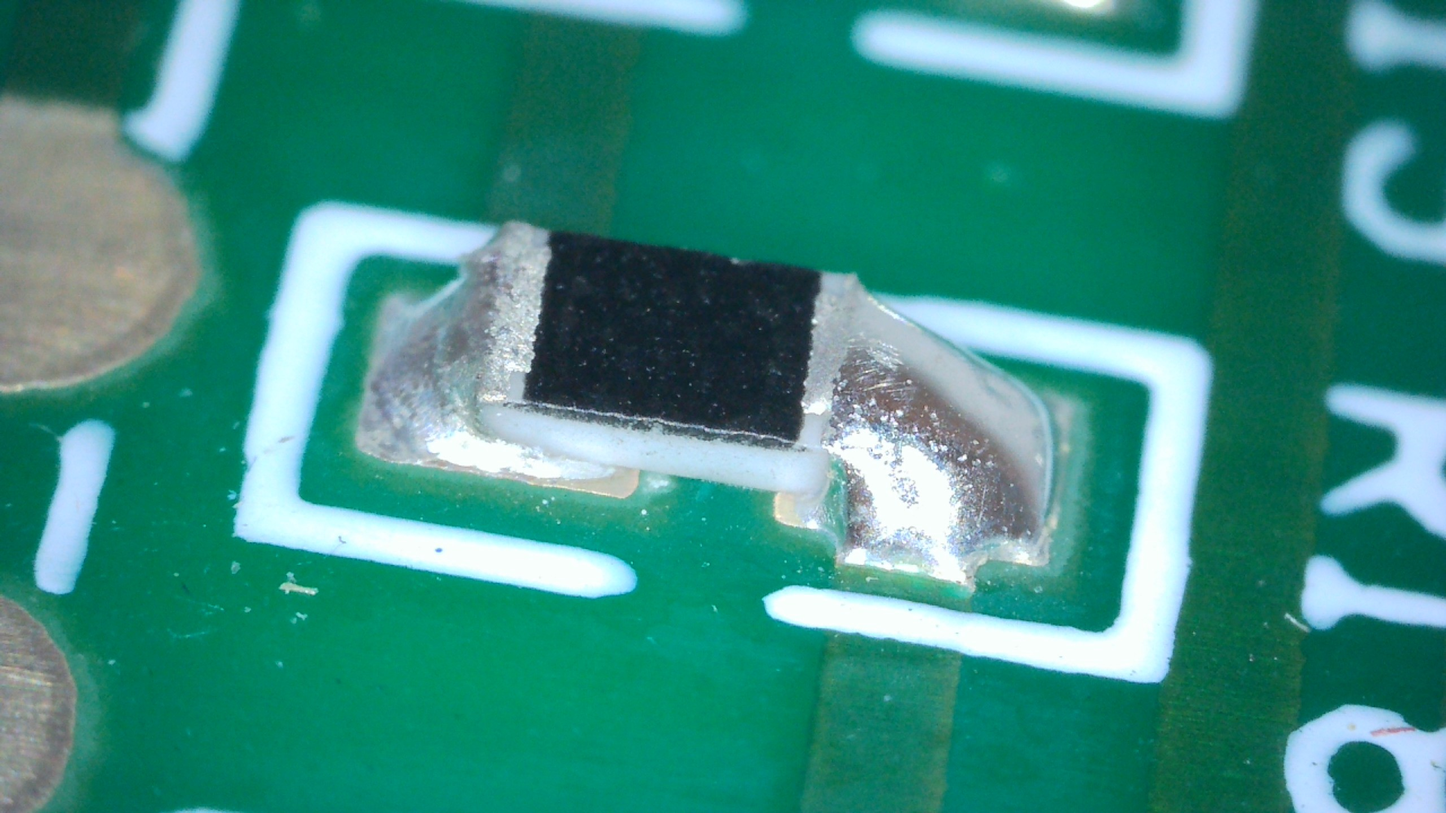NG: (792, 274, 1055, 588)
OK: (355, 222, 614, 485)
